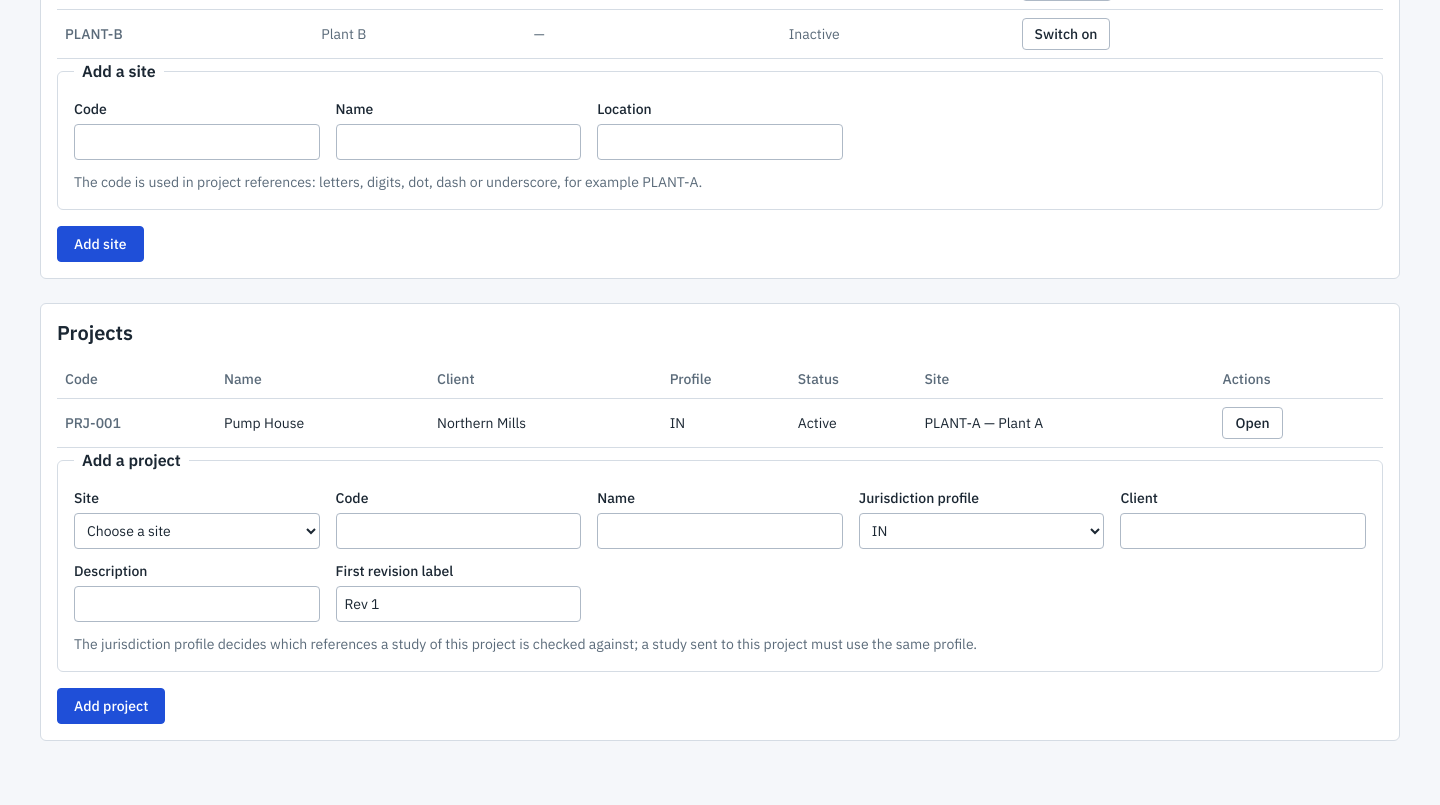
Test: ProjectsPage › shows the server's own refusal next to the form that caused it
The image size is (1440, 805).
(page scrolled)
Select "PLANT-A — Plant A" in the dropdown labelled "Site" at (197, 531), box [74,513,320,549]
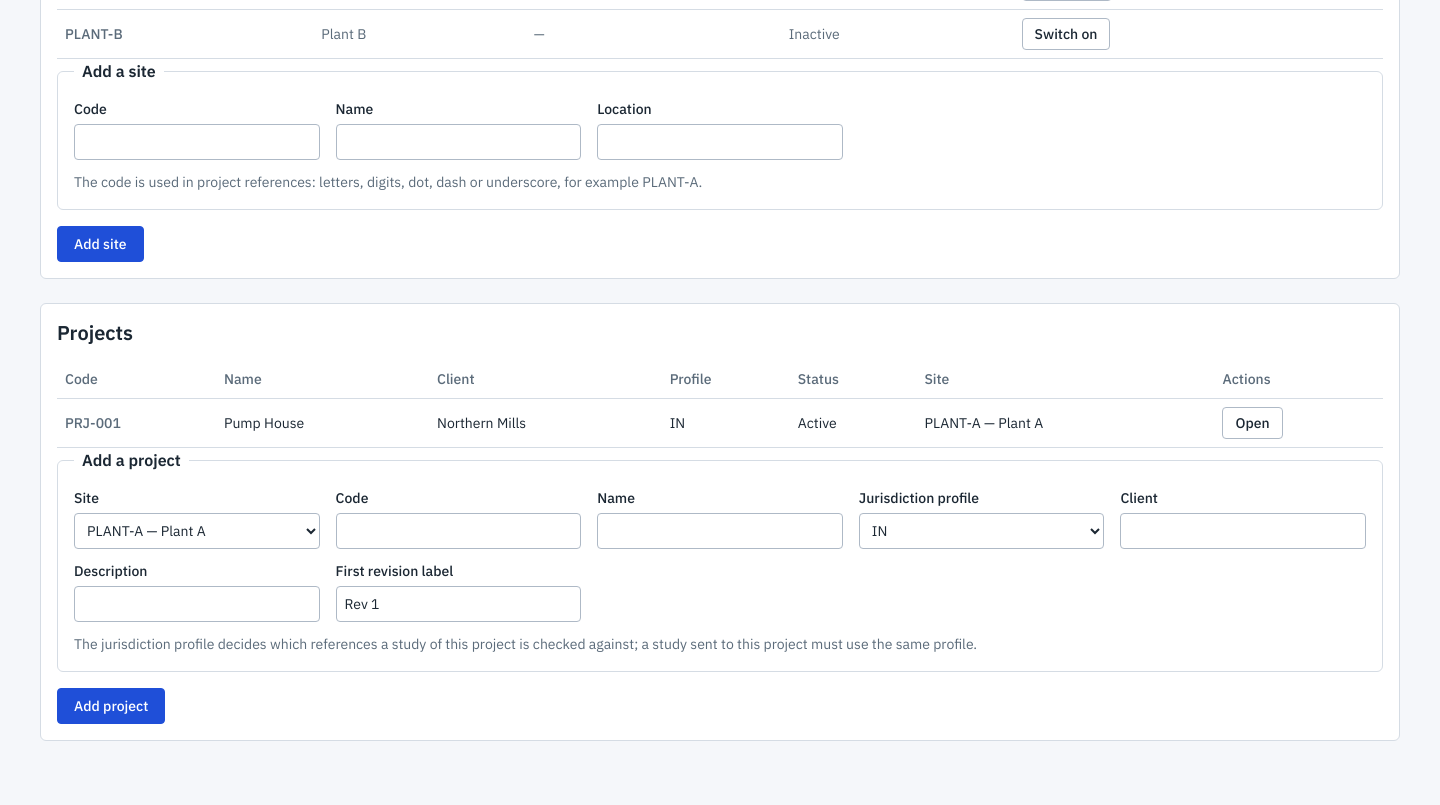
Type "PRJ-001" into the field labelled "Code" below "Add a project" at (458, 531), box [336,513,581,549]
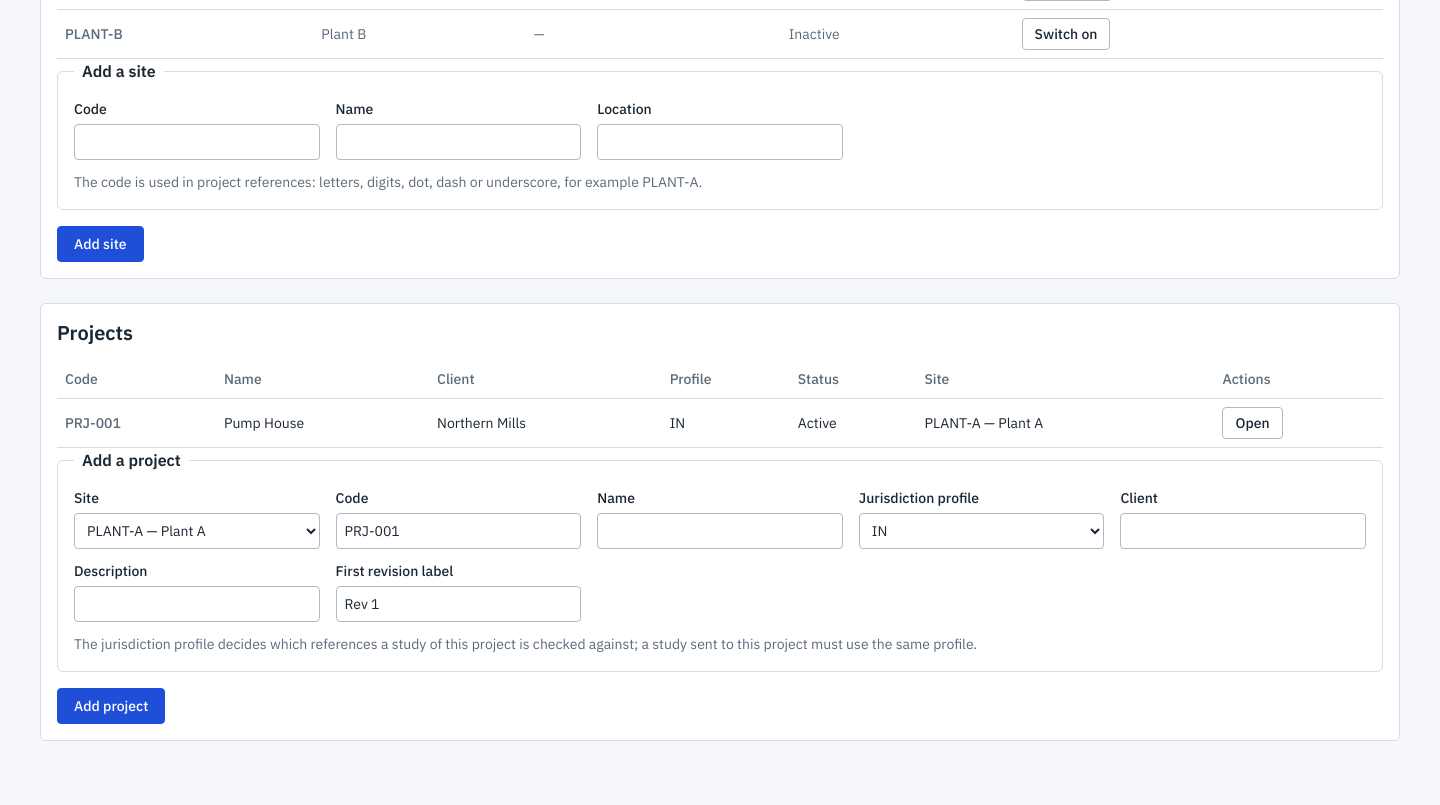
Type "Pump House" into the field labelled "Name" below "Northern Mills" at (720, 531), box [597,513,843,549]
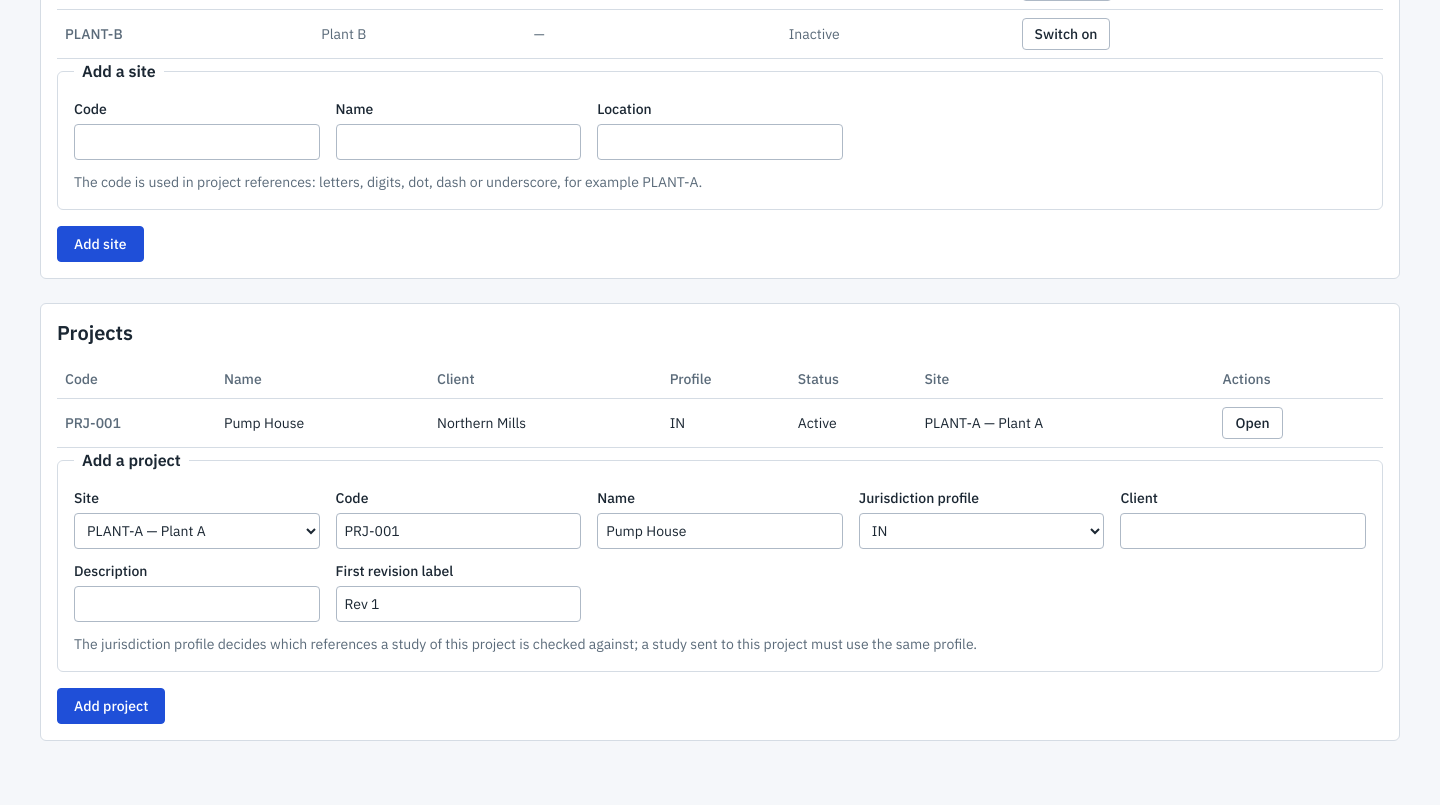
Submit the form "Add a project", box [57,448,1383,724]
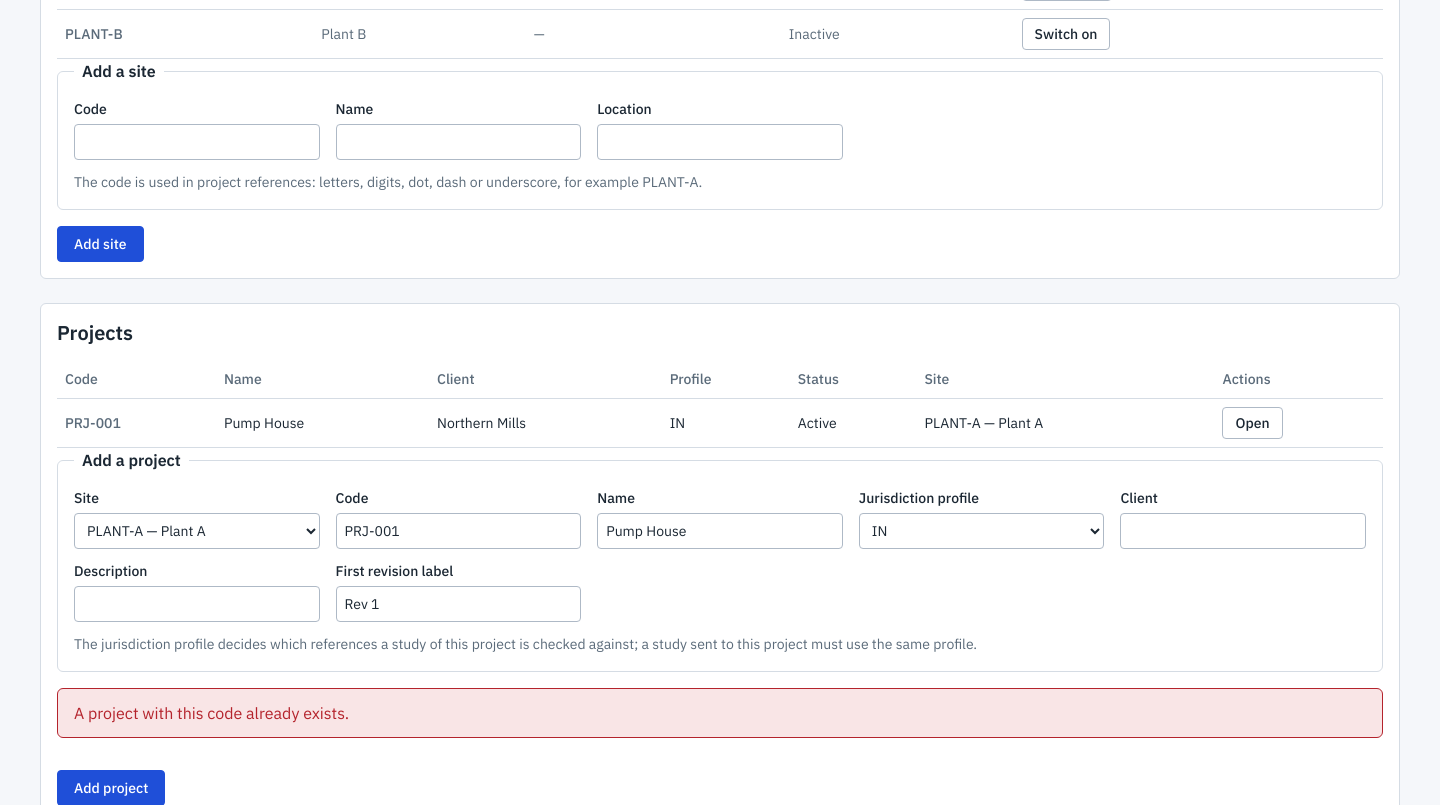
Expected: the message reads "A project with this code already exists.", [74,703,349,723]
